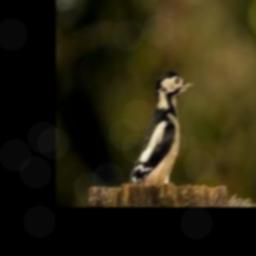Woodpecker: (129, 72, 195, 184)
